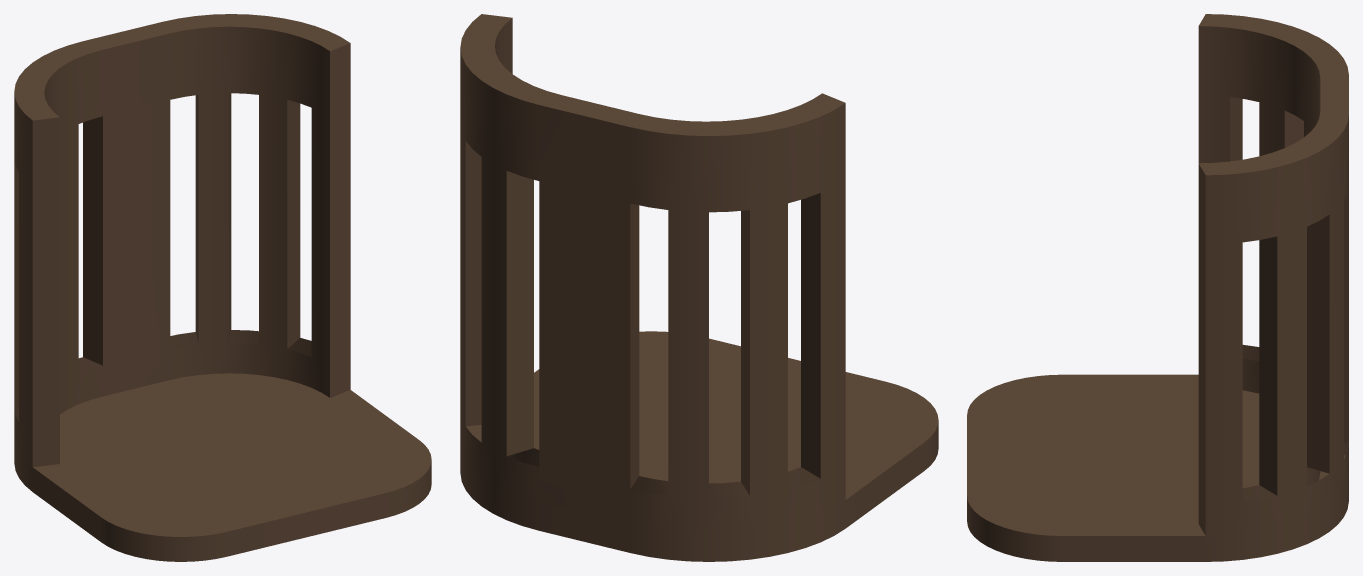
File: chair.fbx
The picture shows the model from 3 angles, left to right: view 1: azimuth 30°, elevation 25°; view 2: azimuth 150°, elevation 25°; view 3: azimuth 270°, elevation 25°; orthographic projection. The views are drawn at different scales.
Visible parts, largest first — view 1: polySurface53; view 2: polySurface53; view 3: polySurface53.
Boxes of the visible parts, x1=… form: polySurface53: x1=14, y1=14, x2=431, y2=561; polySurface53: x1=460, y1=14, x2=938, y2=561; polySurface53: x1=967, y1=14, x2=1348, y2=561.
Size of the model in its own units: 5 by 5.59 by 5.
